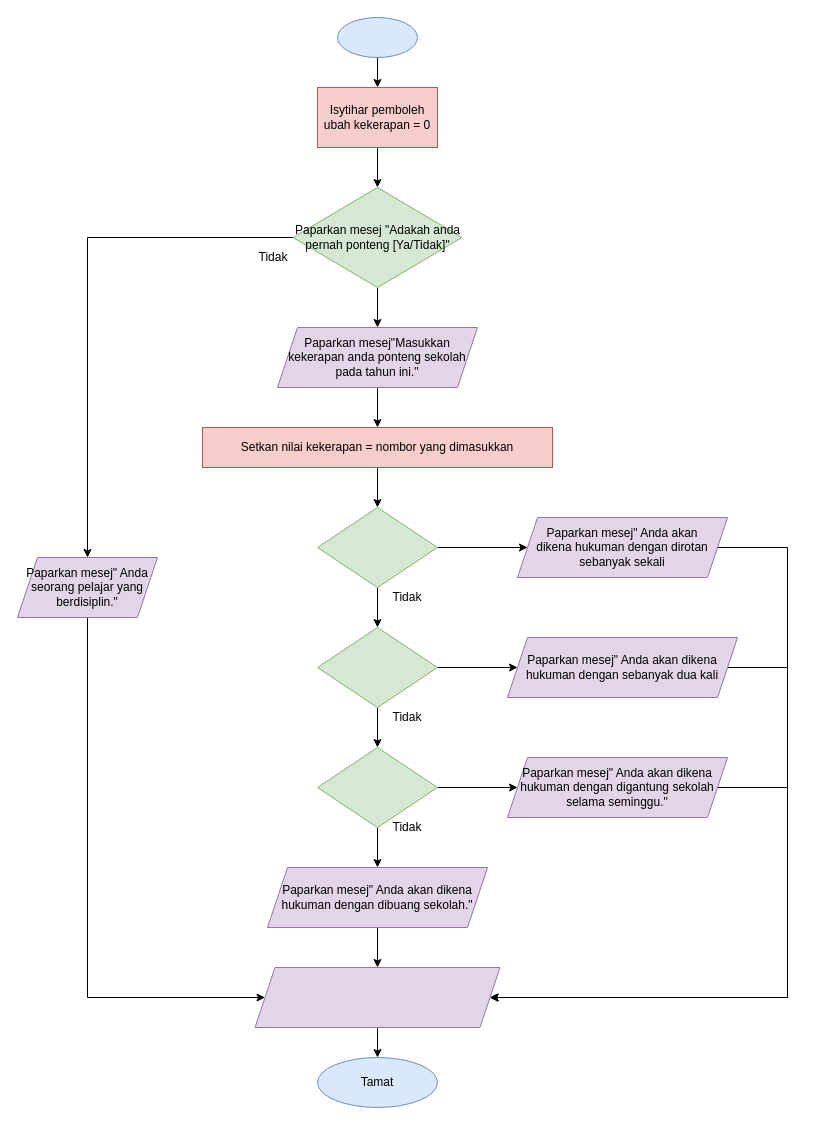
This 813x1125 diagram has some shape labels left out. The shapes that lost their labels are listed below. From the top down, each one's box as (x1, y1, x2, y2) in pixels, then its label:
(336, 16, 418, 58): Mula
(316, 506, 438, 588): Kekerapan <= 1
(316, 626, 438, 708): Kekerapan <= 3
(316, 746, 438, 828): Kekerapan <= 5
(254, 966, 500, 1028): Paparkan mesej" Terima kasih atas kerjasama anda."
